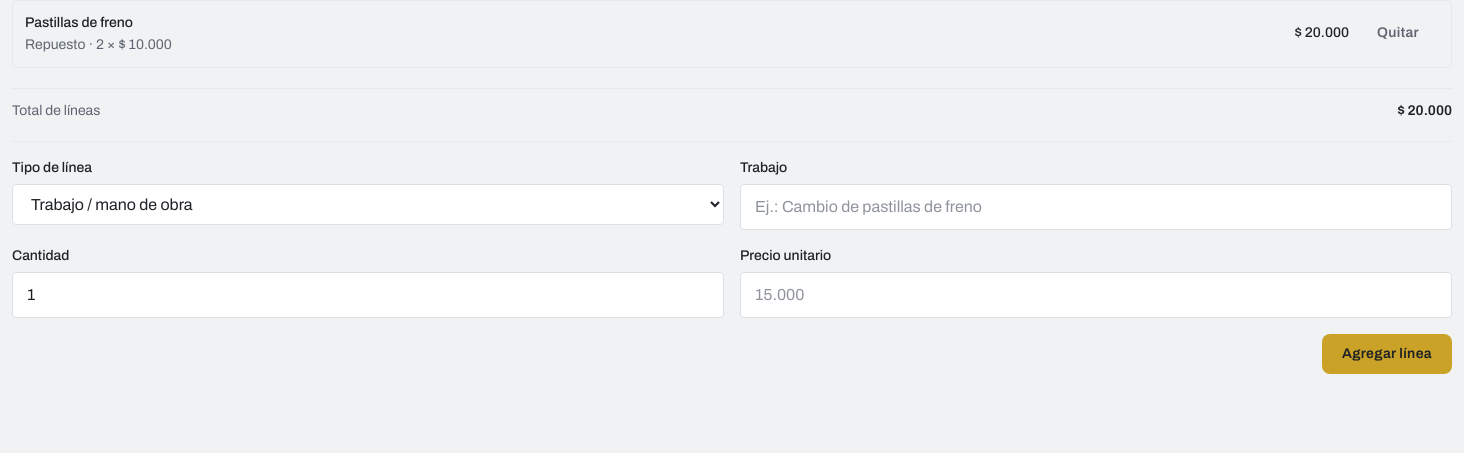
it: Líneas a cotizar en el detalle de la orden › un 409 cobro_emitido se reconoce por el código, no por el texto
The width and height of the screenshot is (1464, 453).
What coordinates should you click on to do the following:
click the button "Quitar"
I would click on:
 (1398, 33)
Its box is [1357,13,1439,53].
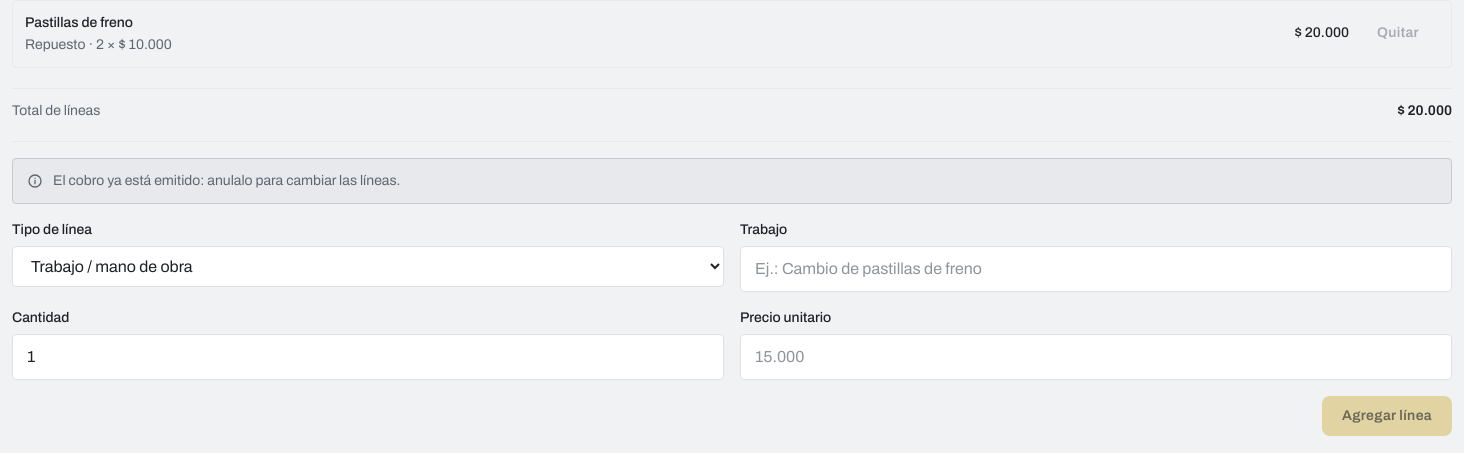
Expected: the text "El cobro ya está emitido: anulalo para cambiar las líneas." is shown, [53,173,400,188]
Expected: the button "Quitar" is disabled, [1357,13,1439,53]
